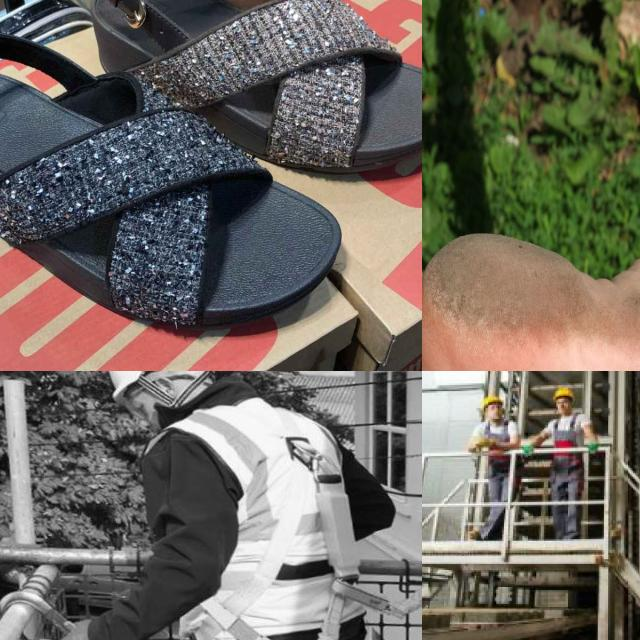Barefoots: (422, 125, 640, 371)
Ear-protection: (522, 371, 603, 577)
Harness: (276, 416, 422, 640)
Sandals: (0, 0, 422, 339)
head_helmet: (479, 394, 508, 424), (548, 386, 574, 416)
person: (450, 371, 521, 547)
